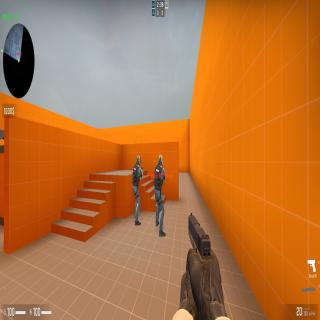CT-Body: (154, 154, 166, 236), (132, 156, 144, 226)
CT-Head: (158, 154, 163, 169), (136, 156, 142, 168)
